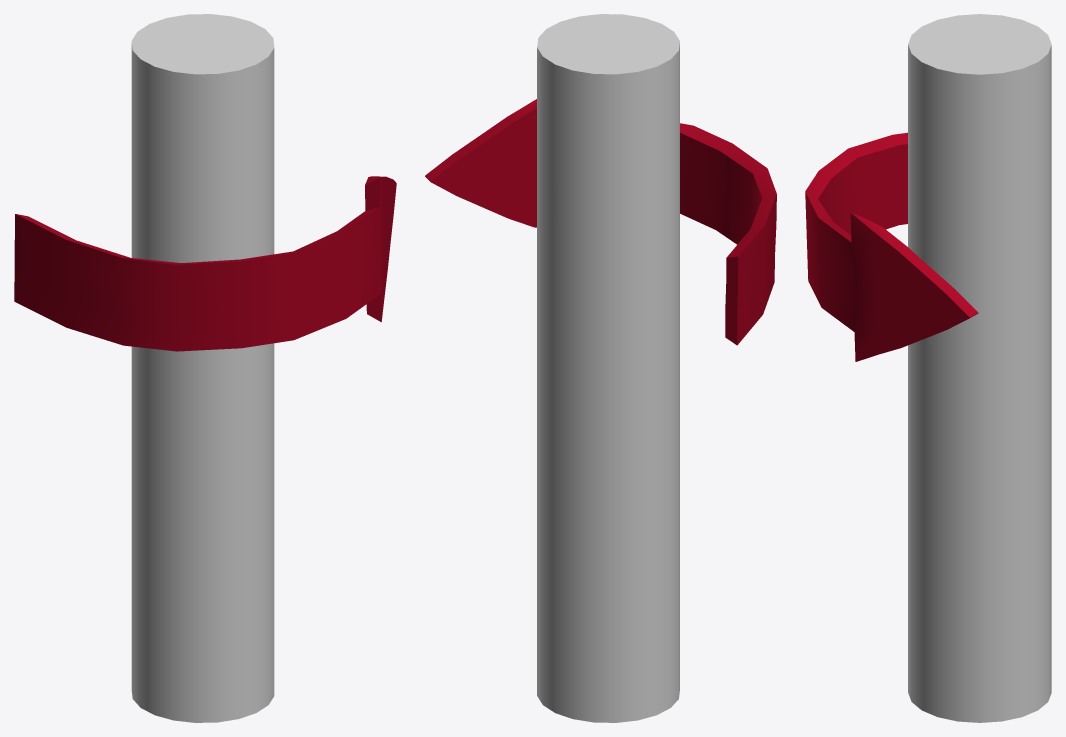
Rendered from IconUnscrew.fbx.
3 views of the same model, side by side, from view 1: azimuth 30°, elevation 25°; view 2: azimuth 150°, elevation 25°; view 3: azimuth 270°, elevation 25° (orthographic).
Visible parts, largest first — view 1: pCylinder1, pCube2; view 2: pCylinder1, pCube2; view 3: pCylinder1, pCube2.
Boxes of the visible parts, left/top/right/bottom form: pCylinder1: left=131, top=14, right=274, bottom=722; pCube2: left=14, top=176, right=396, bottom=351; pCylinder1: left=537, top=14, right=679, bottom=722; pCube2: left=425, top=99, right=776, bottom=345; pCylinder1: left=908, top=14, right=1051, bottom=722; pCube2: left=805, top=132, right=978, bottom=361.
Bounding box in the file's own units: 6.21 × 11.07 × 3.82.
